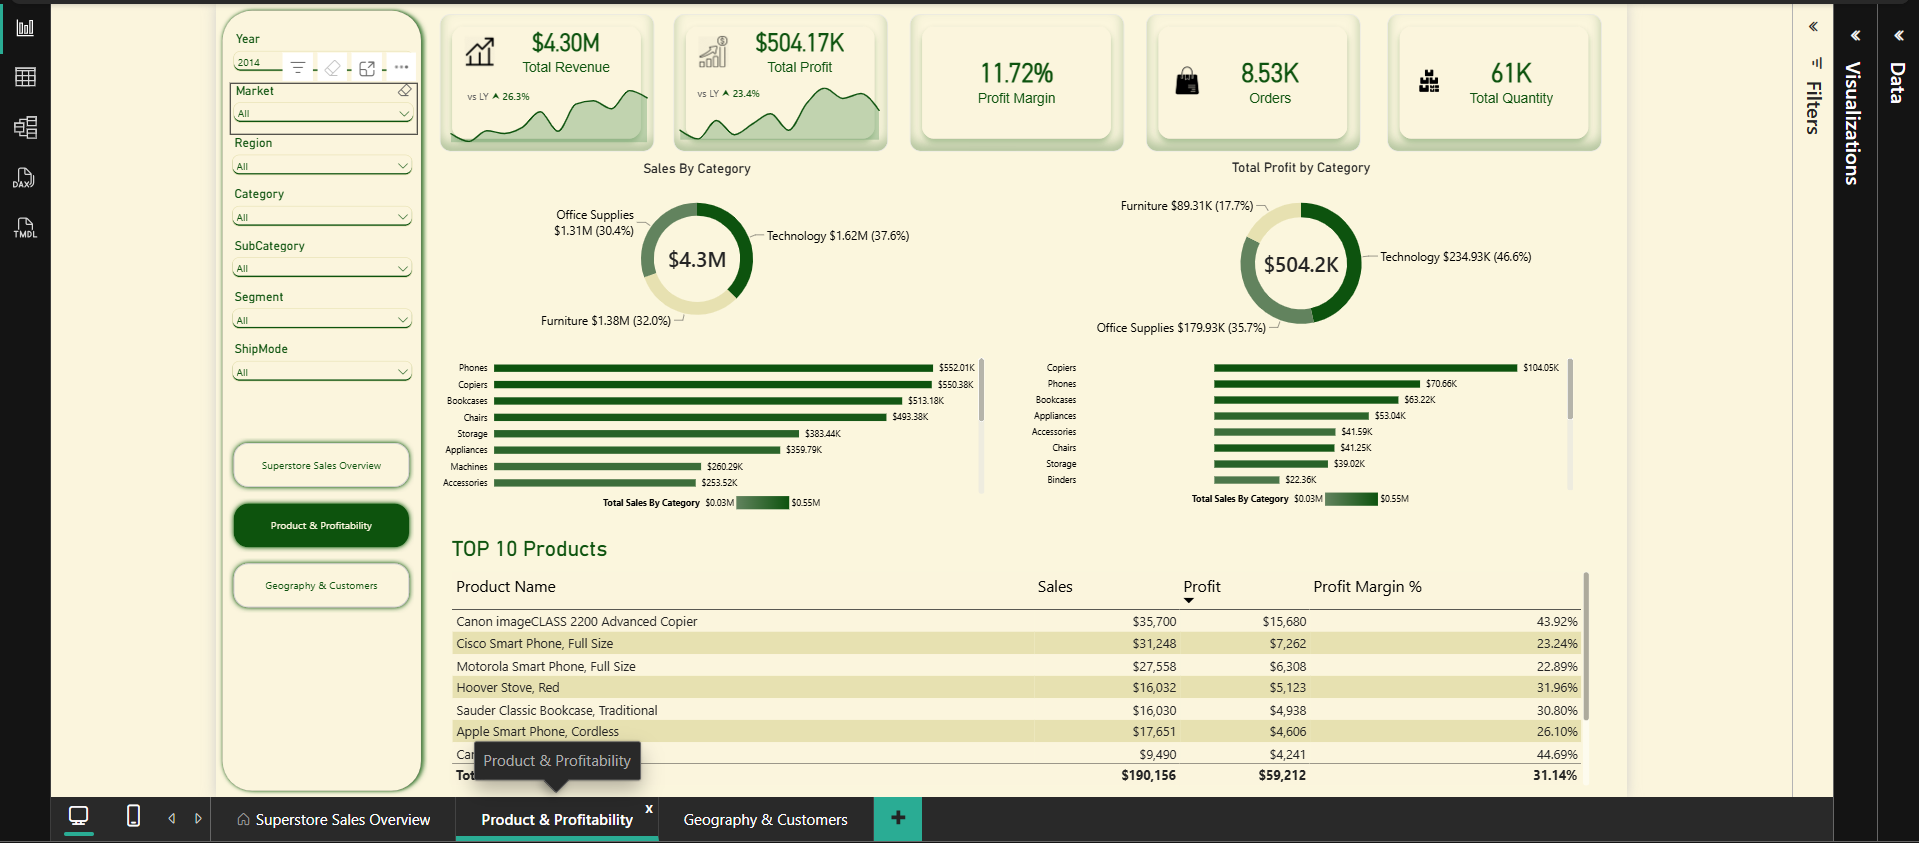

This screenshot's page, from the dashboard's own definition file:
{"tool":"powerbi","page":{"name":"Product & Profitability","canvas":[1920,1080],"ordinal":1},"visuals":[{"type":"shape","box":[0,0,288,1079.9],"z":0},{"type":"slicer","fields":{"Values":["dw DimDate.Year"]},"box":[18,37.8,255.6,70.2],"z":1000},{"type":"slicer","fields":{"Values":["dw DimGeography.Market"]},"box":[18,108,255.6,70.2],"z":2000},{"type":"slicer","fields":{"Values":["dw DimGeography.Region"]},"box":[16.2,178.2,255.6,70.2],"z":3000},{"type":"slicer","fields":{"Values":["dw DimProduct.Category"]},"box":[16.2,248.4,255.6,70.2],"z":4000},{"type":"slicer","fields":{"Values":["dw DimProduct.SubCategory"]},"box":[16.2,318.6,255.6,70.2],"z":5000},{"type":"slicer","fields":{"Values":["dw DimCustomer.Segment"]},"box":[16.2,388.8,255.6,70.2],"z":6000},{"type":"slicer","fields":{"Values":["dw DimShipping.ShipMode"]},"box":[16.2,458.9,255.6,66.6],"z":7000},{"type":"pageNavigator","box":[17,590.4,253.5,238.2],"z":8000},{"type":"cardVisual","fields":{"Data":["dw FactSales.Total Sales"]},"box":[304.4,14.4,291.8,187.3],"z":9000},{"type":"cardVisual","fields":{"Data":["dw FactSales.Total Profit"]},"box":[623.2,14.4,291.8,187.3],"z":10000},{"type":"cardVisual","fields":{"Data":["dw FactSales.Profit Margin %"]},"box":[943.8,14.4,291.8,187.3],"z":11000},{"type":"cardVisual","fields":{"Data":["dw FactSales.Orders"]},"box":[1266.2,14.4,291.8,187.3],"z":12000},{"type":"cardVisual","fields":{"Data":["dw FactSales.Total Quantity"]},"box":[1594,14.4,291.8,187.3],"z":13000},{"type":"lineChart","fields":{"Y":["dw FactSales.Total Sales"],"Category":["dw DimDate.Month"]},"box":[270.2,108.1,326,79.2],"z":14000},{"type":"lineChart","fields":{"Y":["dw FactSales.Total Profit"],"Category":["dw DimDate.Month"]},"box":[596.5,104.7,315.2,79.2],"z":15000},{"type":"donutChart","title":"Sales By Category","fields":{"Category":["dw DimProduct.Category"],"Y":["dw FactSales.Total Sales"]},"box":[287.8,198.8,734.3,259.9],"z":16000},{"type":"donutChart","fields":{"Category":["dw DimProduct.Category"],"Y":["dw FactSales.Total Profit"]},"box":[1088.9,197.4,775.8,275.6],"z":17000},{"type":"barChart","fields":{"Category":["dw DimProduct.SubCategory"],"Y":["dw FactSales.Total Sales"]},"box":[287.8,458.7,774.4,251.2],"z":18000},{"type":"barChart","fields":{"Category":["dw DimProduct.SubCategory"],"Y":["dw FactSales.Total Profit"]},"box":[1089.7,459.3,774.5,246.8],"z":19000},{"type":"tableEx","title":"TOP 10 Products","fields":{"Values":["dw DimProduct.ProductName","Sum(dw FactSales.Sales)","Sum(dw FactSales.Profit)","dw FactSales.Profit Margin %"]},"box":[304.6,710.1,1580.8,370.5],"z":20000}]}

Visuals, with their boxes on the page's 1920x1080 design canvas (x1, y1, x2, y2). These are canvas units, not pixel positions in the 1919x843 screenshot, which may show the page scaled, cropped or inside an application window:
shape: region(0, 0, 288, 1080)
slicer - dw DimDate.Year: region(18, 38, 274, 108)
slicer - dw DimGeography.Market: region(18, 108, 274, 178)
slicer - dw DimGeography.Region: region(16, 178, 272, 248)
slicer - dw DimProduct.Category: region(16, 248, 272, 319)
slicer - dw DimProduct.SubCategory: region(16, 319, 272, 389)
slicer - dw DimCustomer.Segment: region(16, 389, 272, 459)
slicer - dw DimShipping.ShipMode: region(16, 459, 272, 526)
pageNavigator: region(17, 590, 270, 829)
cardVisual - dw FactSales.Total Sales: region(304, 14, 596, 202)
cardVisual - dw FactSales.Total Profit: region(623, 14, 915, 202)
cardVisual - dw FactSales.Profit Margin %: region(944, 14, 1236, 202)
cardVisual - dw FactSales.Orders: region(1266, 14, 1558, 202)
cardVisual - dw FactSales.Total Quantity: region(1594, 14, 1886, 202)
lineChart - dw FactSales.Total Sales x dw DimDate.Month: region(270, 108, 596, 187)
lineChart - dw FactSales.Total Profit x dw DimDate.Month: region(596, 105, 912, 184)
"Sales By Category" donutChart: region(288, 199, 1022, 459)
donutChart - dw DimProduct.Category x dw FactSales.Total Profit: region(1089, 197, 1865, 473)
barChart - dw DimProduct.SubCategory x dw FactSales.Total Sales: region(288, 459, 1062, 710)
barChart - dw DimProduct.SubCategory x dw FactSales.Total Profit: region(1090, 459, 1864, 706)
"TOP 10 Products" tableEx: region(305, 710, 1885, 1081)
